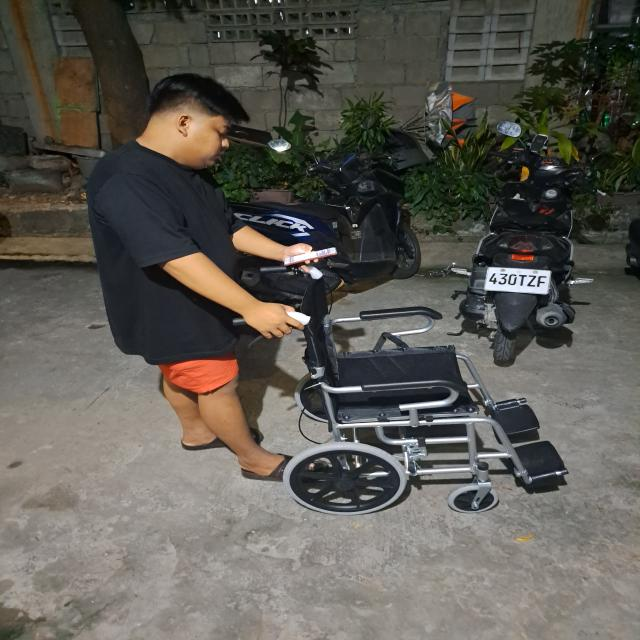wheelchairs: (250, 265, 562, 512)
